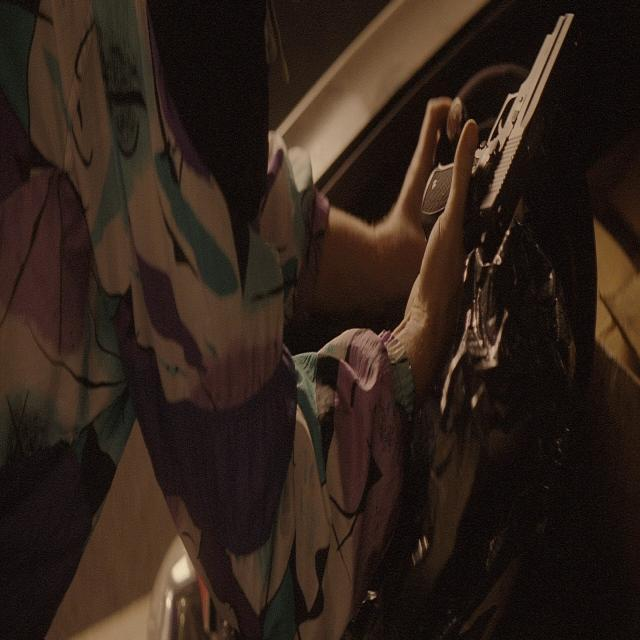gun-knife-thesis - v11 Yolov5 augmented: (420, 6, 580, 252)
